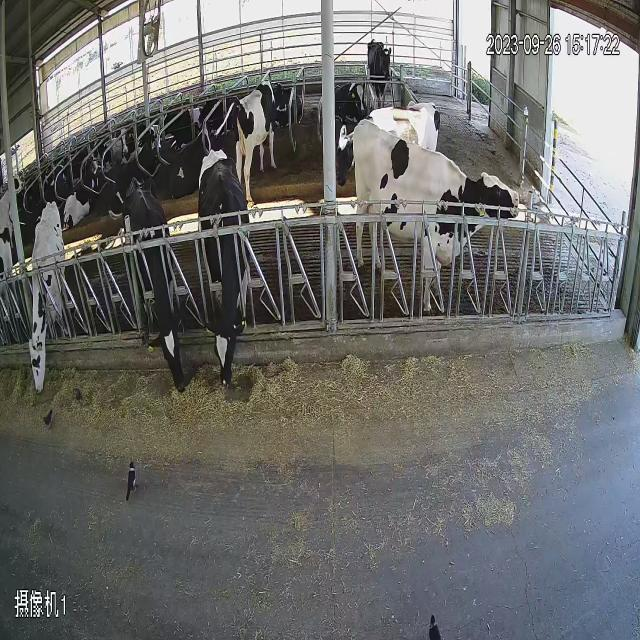feeding: (119, 166, 197, 472), (198, 136, 260, 479), (29, 188, 73, 446)
lying down: (19, 87, 224, 225), (322, 55, 374, 124)
standing: (348, 118, 530, 318), (332, 91, 458, 194), (229, 53, 289, 189), (355, 24, 405, 111)
